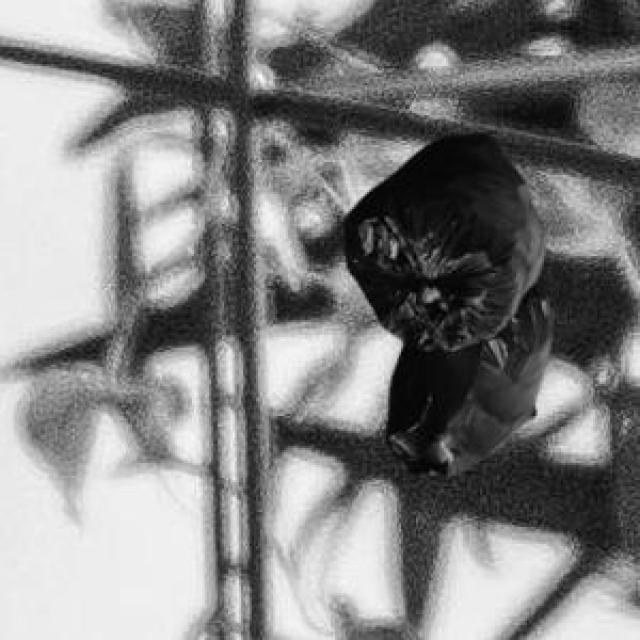miscellaneous trash: (339, 130, 548, 472)
